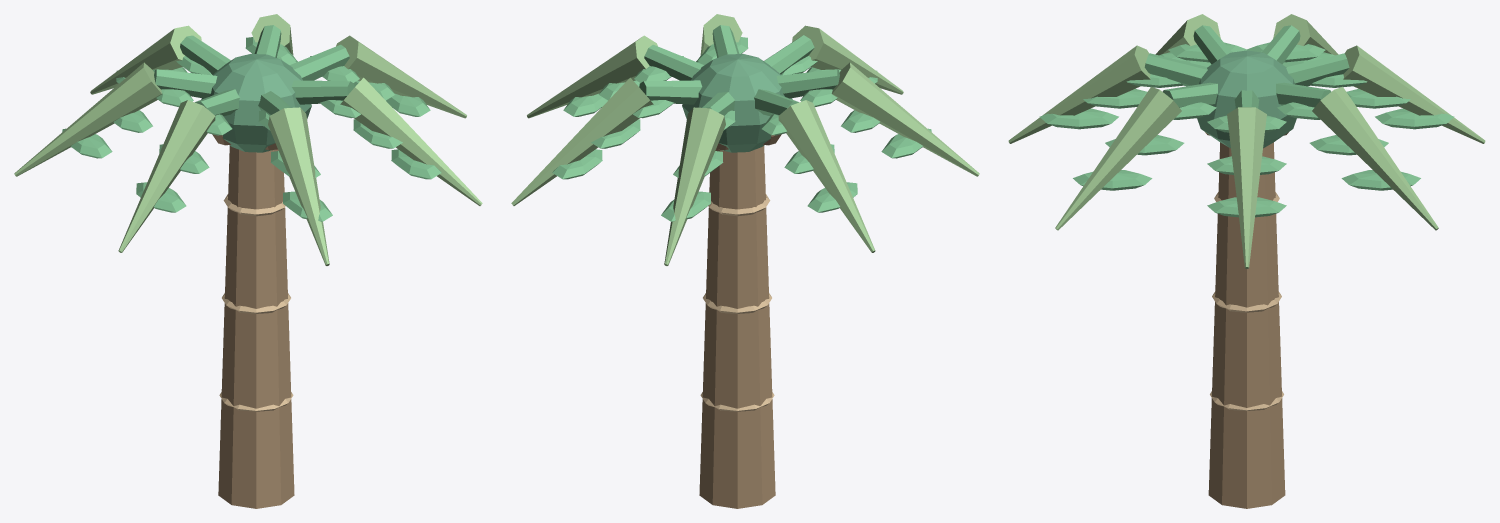
The model's file is palmera_oasis.glb.
3 renders of one model, left to right at view 1: azimuth 30°, elevation 25°; view 2: azimuth 150°, elevation 25°; view 3: azimuth 270°, elevation 25°, orthographic.
Parts seen in each view (by area): view 1: palmera_oasis; view 2: palmera_oasis; view 3: palmera_oasis.
Part boxes in pixels (x1=…): palmera_oasis: x1=14, y1=14, x2=482, y2=508; palmera_oasis: x1=511, y1=14, x2=979, y2=508; palmera_oasis: x1=1008, y1=14, x2=1485, y2=508.
Size of the model in its own units: 4.3 by 4.45 by 4.41.
